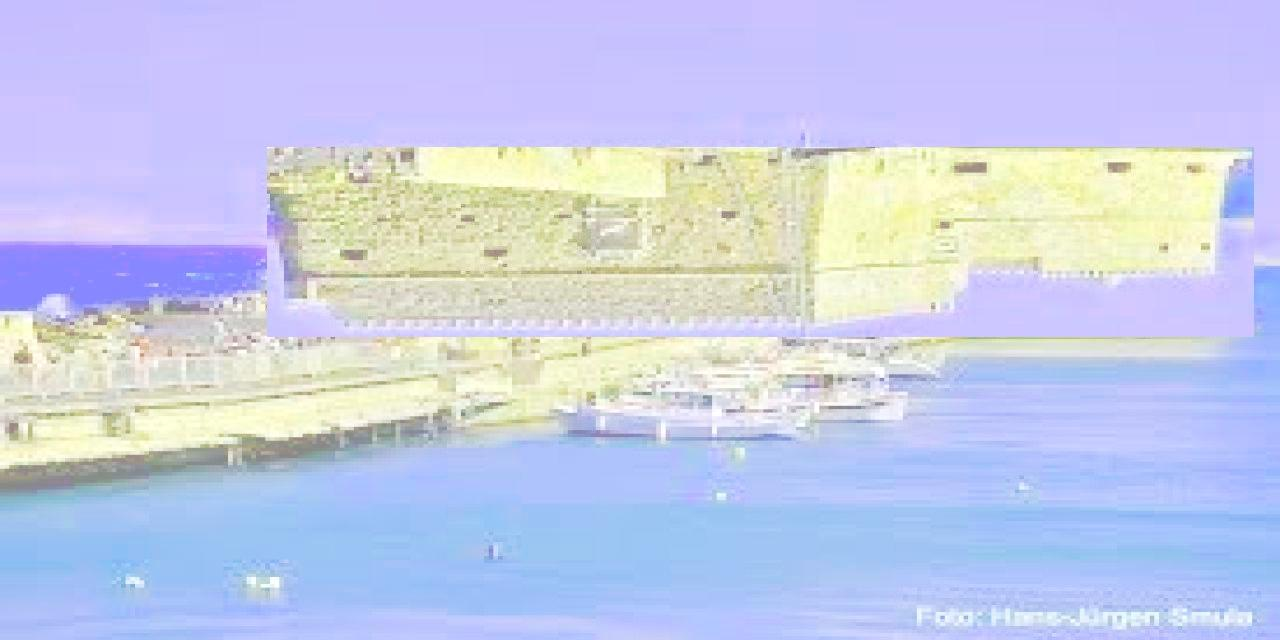Kules: (268, 148, 1255, 338)
